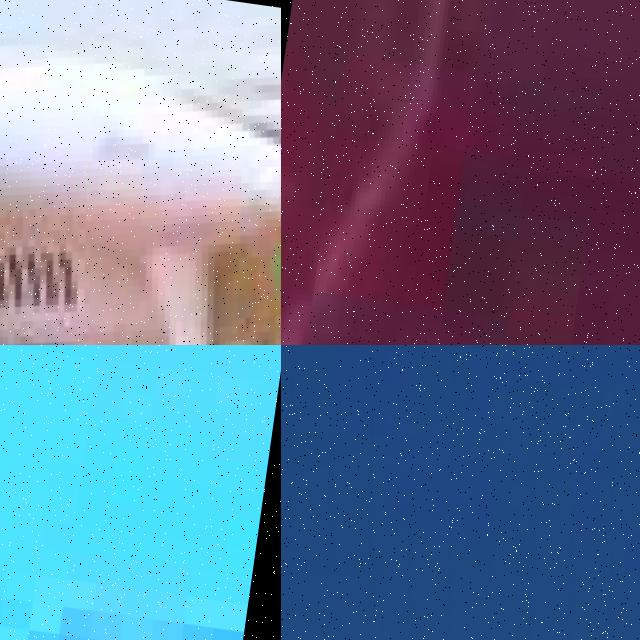drone: (281, 345, 640, 640), (0, 0, 281, 345)
